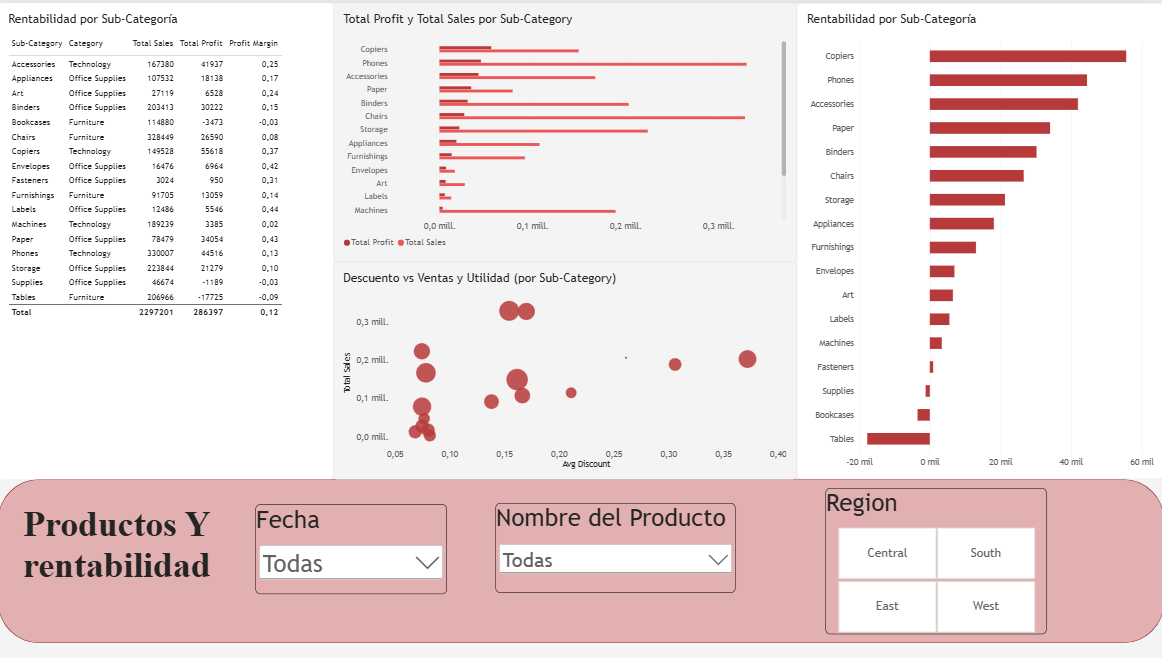

What the dashboard file says about the page in this screenshot:
{"tool":"powerbi","page":{"name":"Productos y Rentabilidad","canvas":[1920,1080],"ordinal":1},"visuals":[{"type":"barChart","title":"Rentabilidad por Sub-Categoría","fields":{"Category":["DIM_Producto.Sub-Category"],"Y":["Medidas DAX.Total Profit"]},"box":[1315.3,0,605.1,784.2],"z":0},{"type":"shape","box":[0,784.2,1920.4,269.6],"z":1000},{"type":"textbox","box":[30.9,825.4,329.3,146.1],"z":2000},{"type":"slicer","title":"Fecha","fields":{"Values":["DIM_Fecha.NombreMes","DIM_Fecha.Año"]},"box":[424,825.4,314.9,148.2],"z":3000},{"type":"slicer","title":"Nombre del Producto","fields":{"Values":["DIM_Producto.Product Name"]},"box":[819.2,823.3,395.2,148.2],"z":4000},{"type":"slicer","title":"Region","fields":{"Values":["FACT_Ventas.Region"]},"box":[1362.6,798.6,364.3,240.8],"z":5000},{"type":"tableEx","title":"Rentabilidad por Sub-Categoría","fields":{"Values":["DIM_Producto.Sub-Category","DIM_Producto.Category","Medidas DAX.Total Sales","Medidas DAX.Total Profit","Medidas DAX.Profit Margin"]},"box":[0,0,551.6,784.2],"z":6000},{"type":"clusteredBarChart","fields":{"Category":["DIM_Producto.Sub-Category"],"Y":["Medidas DAX.Total Profit","Medidas DAX.Total Sales"]},"box":[551.6,0,763.6,426.1],"z":7000},{"type":"scatterChart","title":"Descuento vs Ventas y Utilidad (por Sub-Category)","fields":{"Category":["DIM_Producto.Sub-Category"],"Size":["Medidas DAX.Total Profit"],"X":["Medidas DAX.Avg Discount"],"Y":["Medidas DAX.Total Sales"]},"box":[551.6,426.1,763.6,358.1],"z":8000}]}

Visuals, with their boxes in screenshot pixels (x1, y1, x2, y2), scaled from the page's 1920x1080 canvas onto the 1162x658 screenshot:
"Rentabilidad por Sub-Categoría" barChart: x1=796 y1=0 x2=1161 y2=478
shape: x1=0 y1=478 x2=1161 y2=642
textbox: x1=19 y1=503 x2=218 y2=592
"Fecha" slicer: x1=257 y1=503 x2=447 y2=593
"Nombre del Producto" slicer: x1=496 y1=502 x2=735 y2=592
"Region" slicer: x1=825 y1=487 x2=1045 y2=633
"Rentabilidad por Sub-Categoría" tableEx: x1=0 y1=0 x2=334 y2=478
clusteredBarChart - DIM_Producto.Sub-Category x Medidas DAX.Total Profit: x1=334 y1=0 x2=796 y2=260
"Descuento vs Ventas y Utilidad (por Sub-Category)" scatterChart: x1=334 y1=260 x2=796 y2=478
